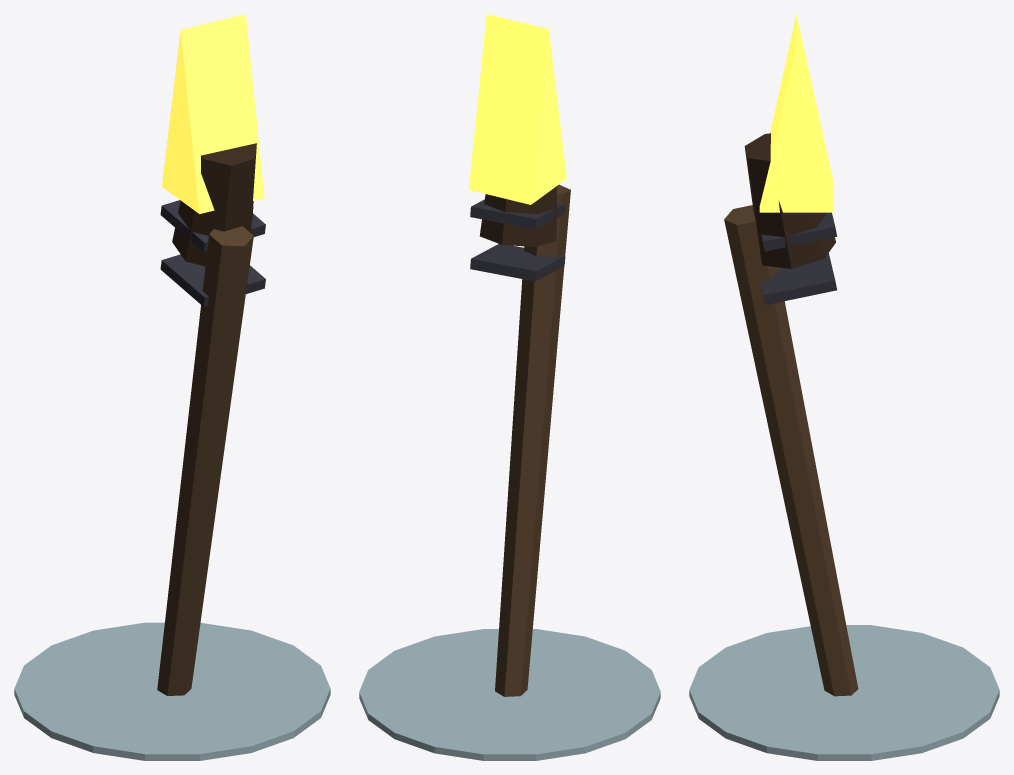
The model's file is boss_grab_torch_b12.glb.
The picture shows the model from 3 angles, left to right: view 1: azimuth 30°, elevation 25°; view 2: azimuth 150°, elevation 25°; view 3: azimuth 270°, elevation 25°; orthographic projection. The views are drawn at different scales.
Parts seen in each view (by area): view 1: boss_grab_torch_b12; view 2: boss_grab_torch_b12; view 3: boss_grab_torch_b12.
Boxes of the visible parts, x1=… form: boss_grab_torch_b12: x1=14, y1=14, x2=330, y2=760; boss_grab_torch_b12: x1=359, y1=14, x2=660, y2=760; boss_grab_torch_b12: x1=689, y1=14, x2=999, y2=760.
Bounding box in the file's own units: 0.8272 × 2.05 × 0.84.
